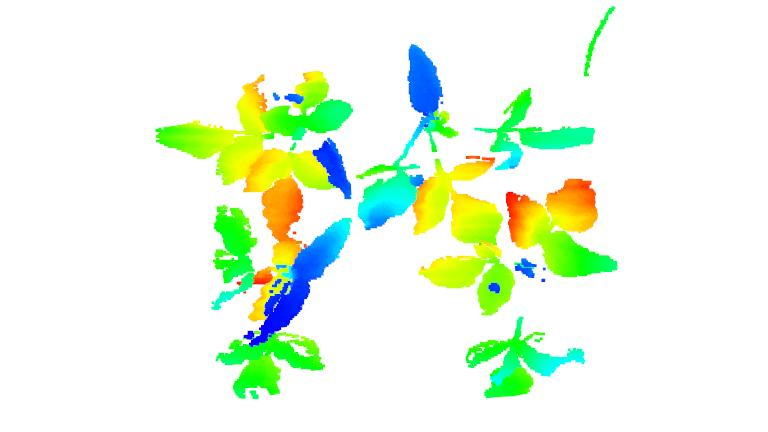mungbean: (356, 37, 596, 244), (422, 175, 625, 399), (147, 59, 355, 230), (207, 206, 356, 399)
